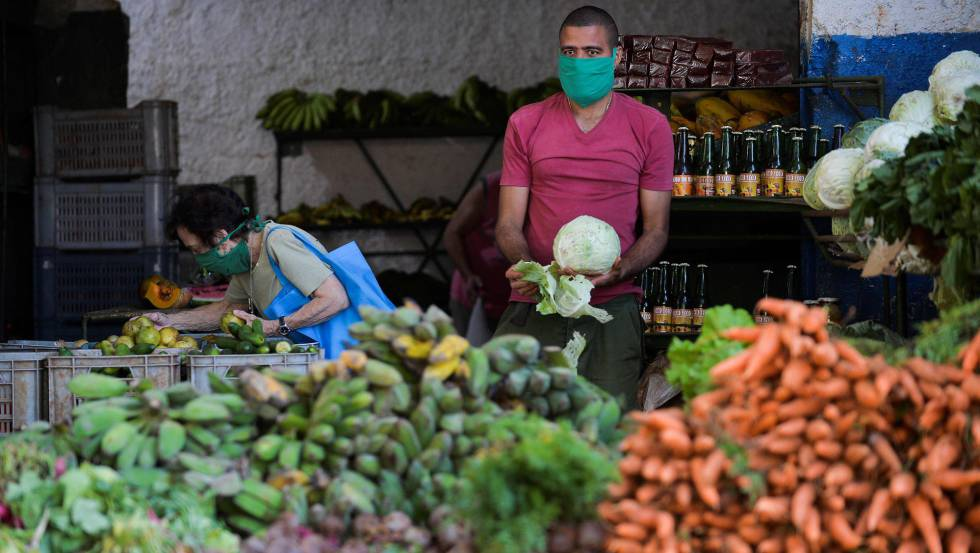with_mask: (167, 190, 272, 286), (542, 12, 625, 101)
